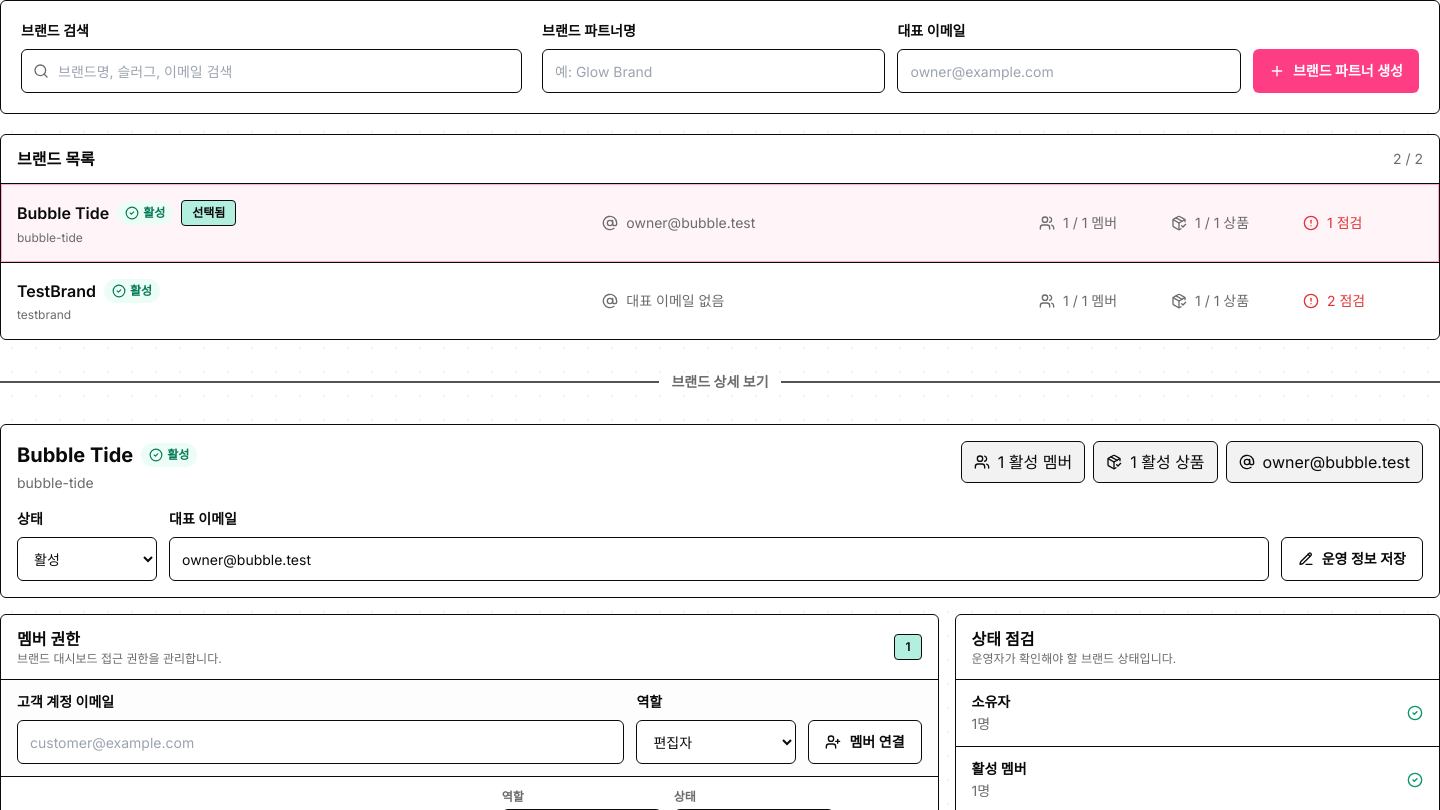
it: AdminBrandManagementClient › filters brand rows from the search field
In the field labelled "브랜드 검색": (272, 71) [21, 49, 522, 93], type "testbrand"
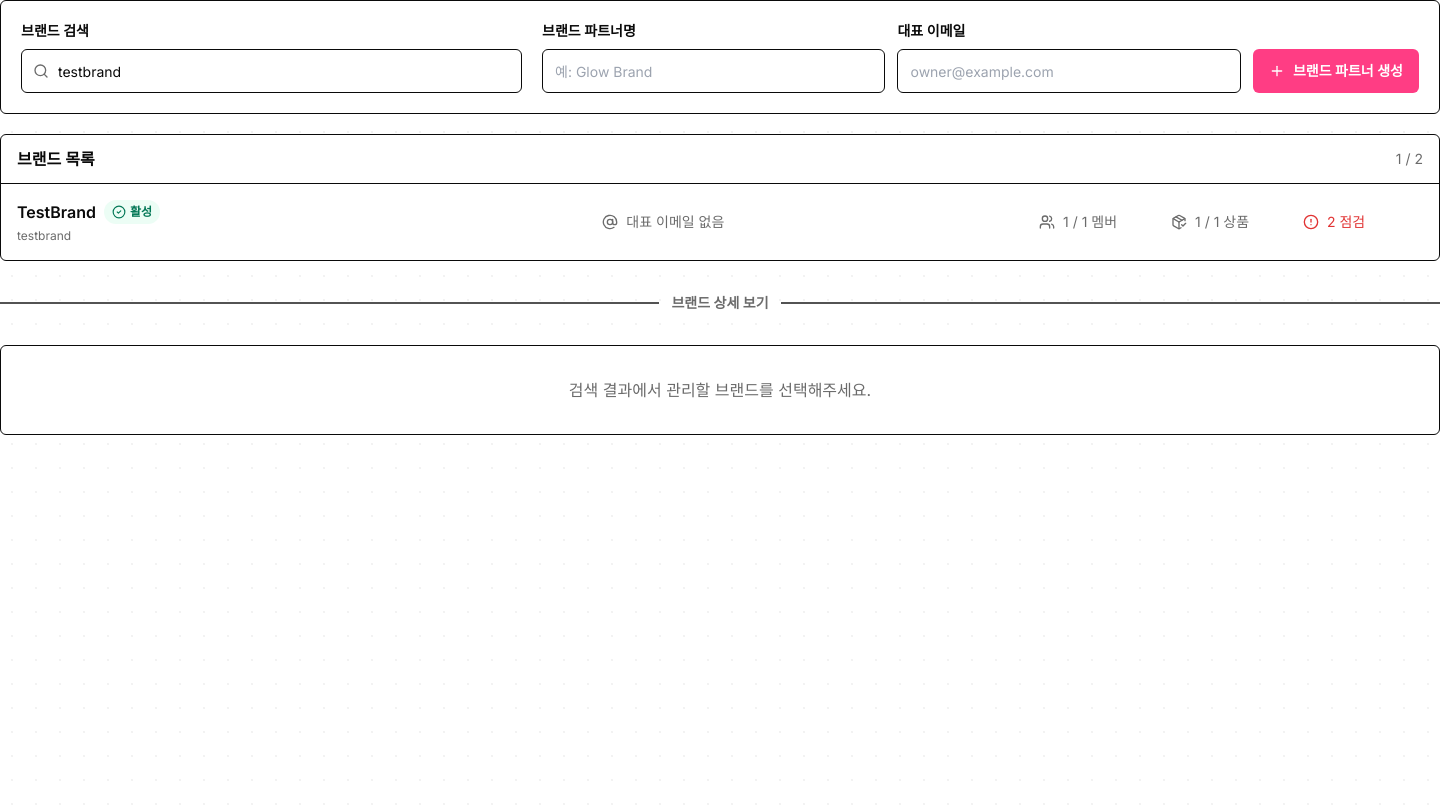
Expected: the button with test id "brand-row-brand_2" is shown, [1, 184, 1439, 260]
Now the button with test id "brand-row-brand_1" is gone
Now the element named "선택한 브랜드 상세" reads "검색 결과에서 관리할 브랜드를 선택해주세요.", box [569, 380, 871, 400]
